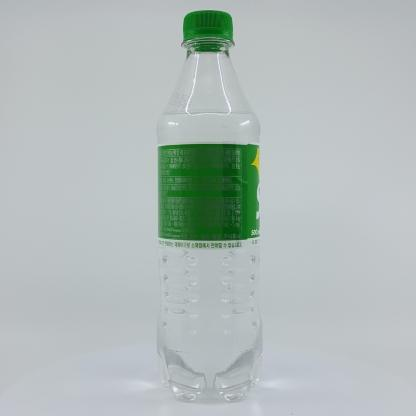-------500ML: (156, 10, 263, 401)
